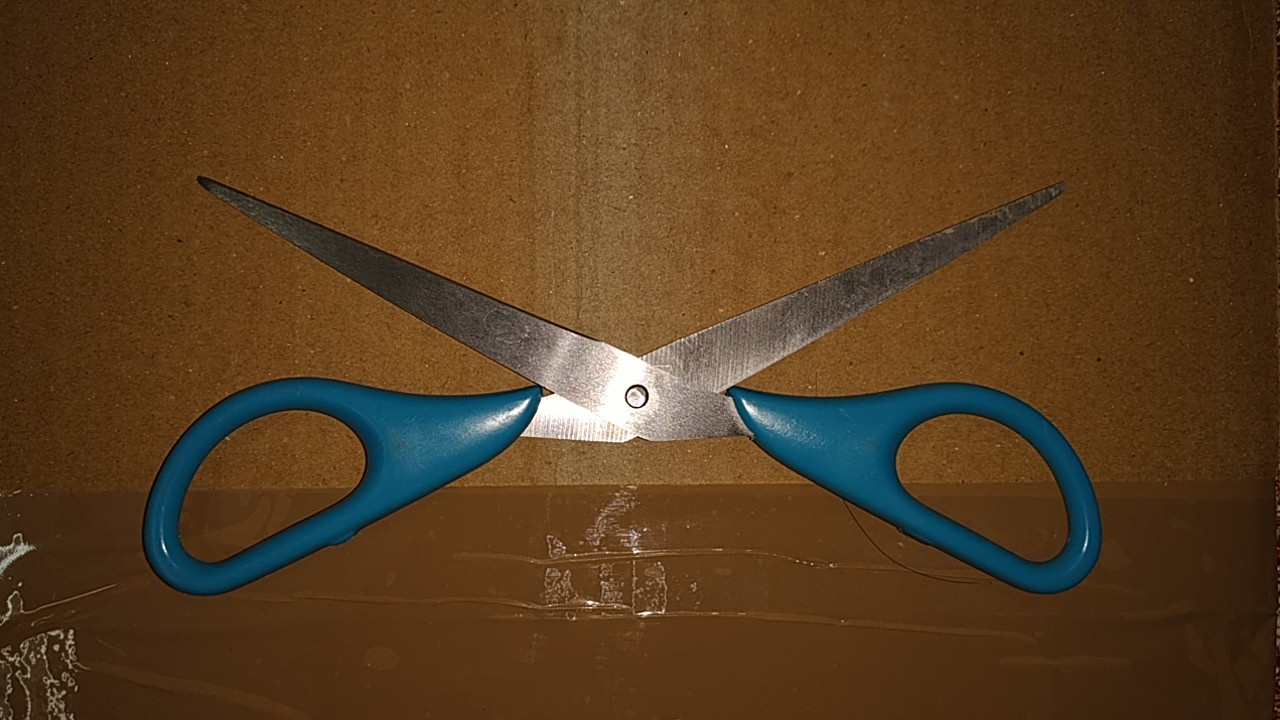scissor: (127, 158, 1113, 624)
